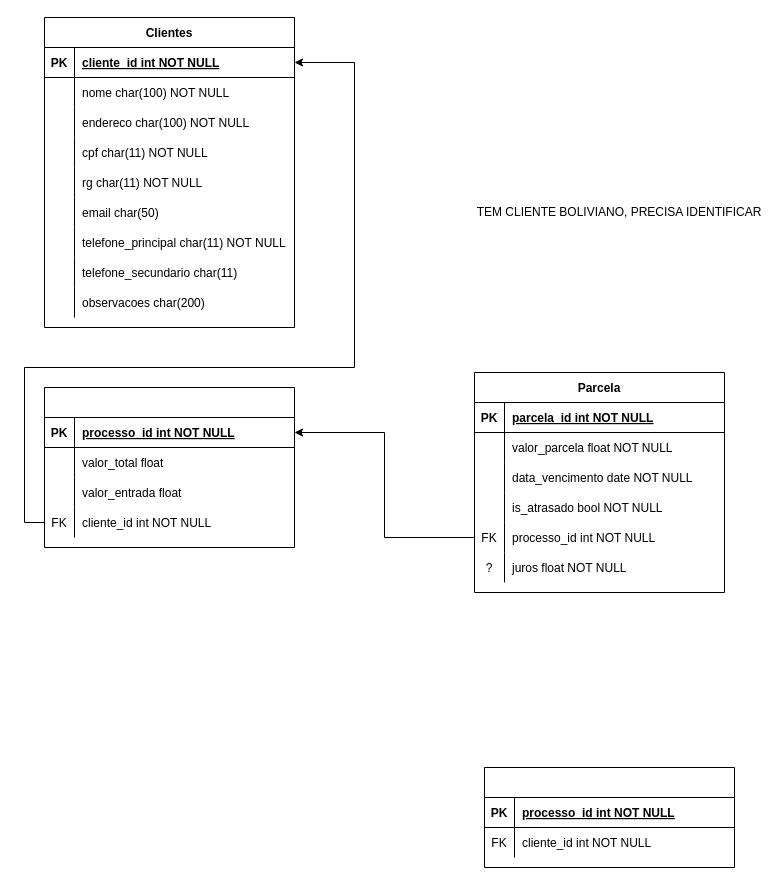
The diagram is 782 pixels wide and 885 high, and some of its shapes have lost their labels. The box of each missing label's shape, as (x1, y1, x2, y2) in pixels:
Parcela_Movimentacoes: (484, 766, 734, 868)
Processos: (44, 386, 294, 548)
